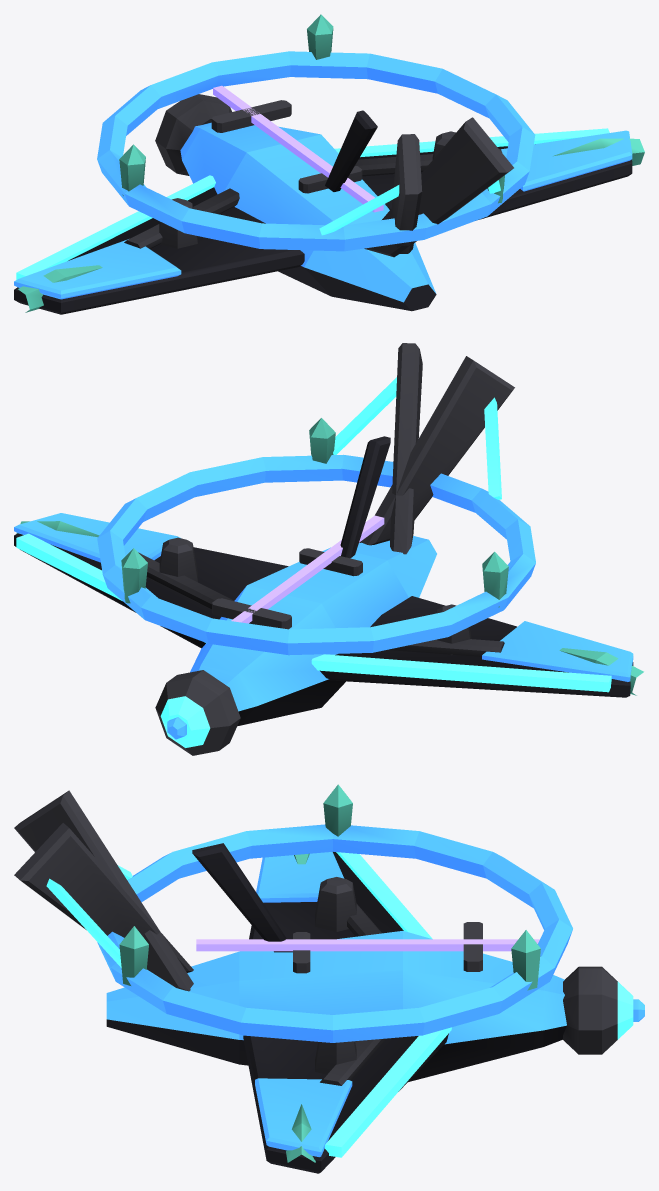
3 renders of one model, top to bottom at view 1: azimuth 30°, elevation 25°; view 2: azimuth 150°, elevation 25°; view 3: azimuth 270°, elevation 25°, orthographic. The views are drawn at different scales.
Visible parts, largest first — view 1: bobHull, spinRing; view 2: bobHull, spinRing; view 3: bobHull, spinRing.
Part boxes in pixels (bbox=[...]): bobHull: bbox=[14, 85, 644, 314]; spinRing: bbox=[97, 14, 535, 251]; bobHull: bbox=[14, 343, 643, 755]; spinRing: bbox=[97, 418, 535, 655]; bobHull: bbox=[14, 790, 644, 1173]; spinRing: bbox=[97, 784, 572, 1042].
Size of the model in its own units: 1.99 by 0.72 by 1.62.
